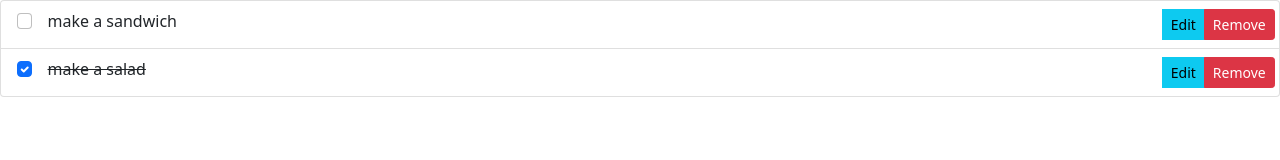
<ListTodo /> › should cancel the editing of a todo
Check: the list item with test id "todo-a" is shown, box 0,0 -> 1279,49
Click the button "Edit" in the row of "make a sandwich". click: (1183, 24)
box: 1162,9 -> 1205,40
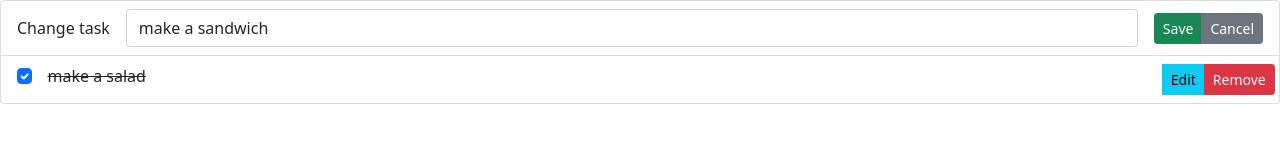
Check: the field labelled "Change task" holds "make a sandwich"
Replace the text in the field labelled "Change task" with "Eat healthy food". click: (632, 28)
box: 126,9 -> 1138,47
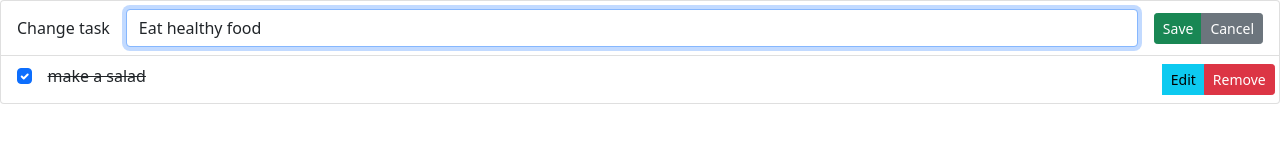
Click the button "Cancel". click: (1232, 28)
box: 1201,12 -> 1263,44
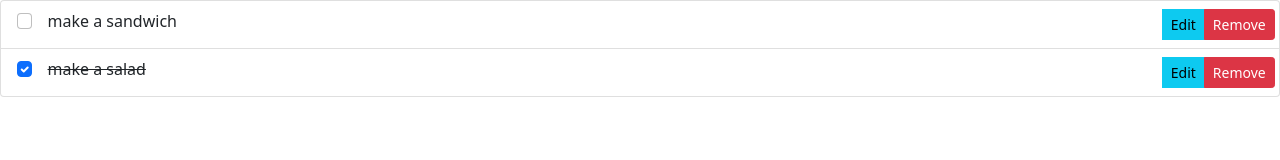
Check: the text "make a sandwich" is shown, box 48,10 -> 177,32
Check: the label labelled "task" is gone
Click the button "Edit" in the row of "make a sandwich". click: (1183, 24)
box: 1162,9 -> 1205,40
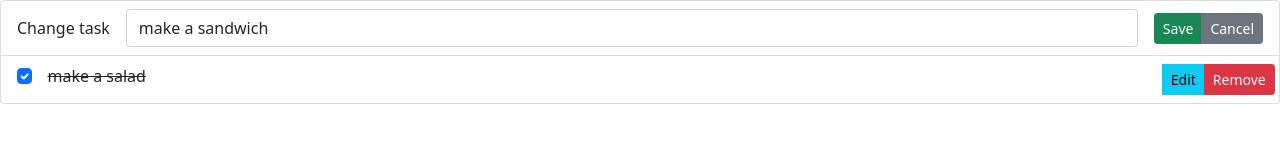
Check: the field labelled "Change task" holds "make a sandwich", box 126,9 -> 1138,47
